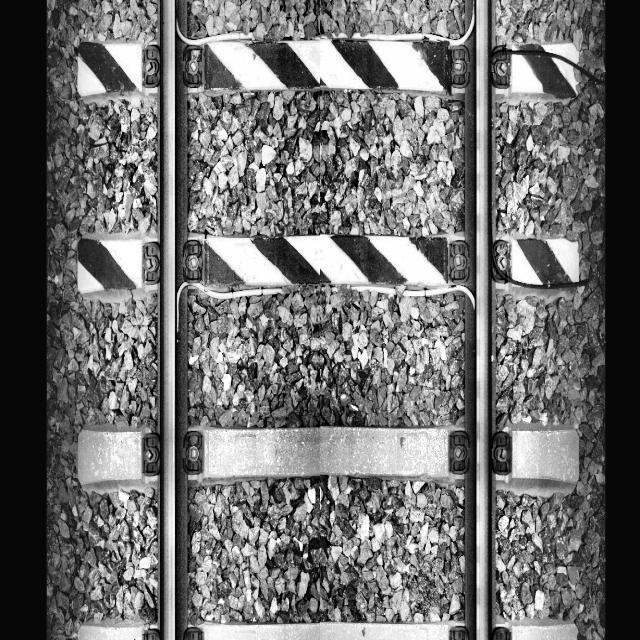Clips: (183, 431, 204, 476), (181, 239, 202, 284), (491, 431, 512, 475), (449, 44, 470, 88), (449, 241, 470, 283), (492, 46, 512, 90), (449, 431, 469, 474), (141, 433, 160, 478), (142, 242, 161, 286), (183, 44, 202, 88), (491, 238, 508, 286), (142, 46, 160, 88), (184, 627, 204, 640), (146, 630, 160, 640)
Sleepers: (80, 425, 576, 495), (79, 36, 583, 101), (76, 235, 574, 292), (77, 619, 580, 640)
